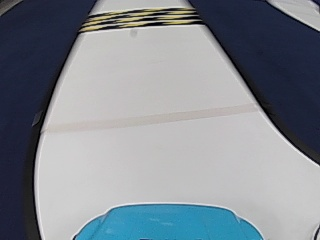bump: (100, 6, 191, 32)
